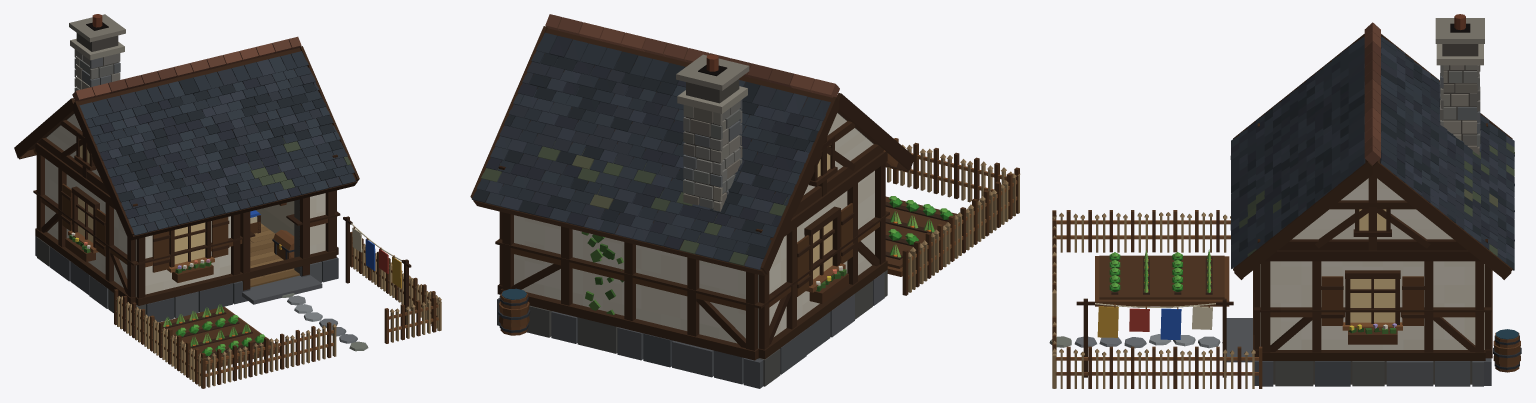
File: cottage-4.glb
3 renders of one model, left to right at view 1: azimuth 30°, elevation 25°; view 2: azimuth 150°, elevation 25°; view 3: azimuth 270°, elevation 25°, orthographic. The views are drawn at different scales.
Visible parts, largest first — view 1: cottage-4_shell, cottage-4_interior, cottage-4_glass, cottage-4_cap; view 2: cottage-4_shell, cottage-4_interior, cottage-4_cap, cottage-4_glass; view 3: cottage-4_shell, cottage-4_interior, cottage-4_glass, cottage-4_cap.
Part boxes in pixels (<box>): cottage-4_shell: <box>14,14,359,322</box>; cottage-4_interior: <box>114,210,441,388</box>; cottage-4_glass: <box>78,139,205,264</box>; cottage-4_cap: <box>33,190,340,265</box>; cottage-4_shell: <box>470,14,914,388</box>; cottage-4_interior: <box>498,138,1020,335</box>; cottage-4_cap: <box>495,211,889,308</box>; cottage-4_glass: <box>813,146,832,279</box>; cottage-4_shell: <box>1226,14,1514,386</box>; cottage-4_interior: <box>1049,210,1521,388</box>; cottage-4_glass: <box>1350,209,1395,322</box>; cottage-4_cap: <box>1254,269,1491,312</box>.
Bounding box in the file's own units: 7.3 × 6.92 × 10.53.
